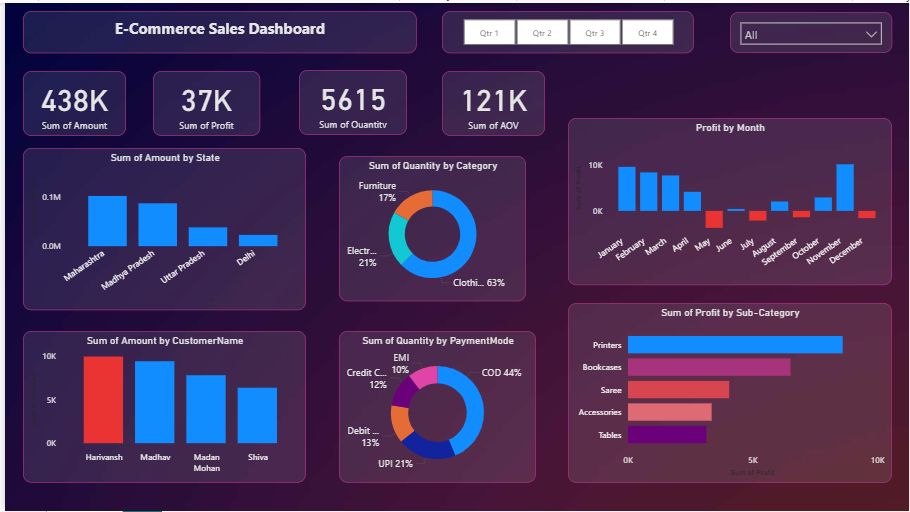

Layout of this report page (visuals, bound fields, positions):
{"tool":"powerbi","page":{"name":"Page 1","canvas":[1280,720],"ordinal":0},"visuals":[{"type":"textbox","box":[25.5,11.3,558.4,59.5],"z":0},{"type":"columnChart","title":"Profit by Month","fields":{"Y":["Details.Profit"],"Category":["Orders.Order Date.Variation.Date Hierarchy.Month"]},"box":[798,97.8,459.2,262.2],"z":1000},{"type":"barChart","fields":{"Category":["Details.Sub-Category"],"Y":["Details.Profit"]},"box":[798,396.9,459.2,283.5],"z":2000},{"type":"donutChart","fields":{"Category":["Details.Category"],"Y":["Details.Quantity"]},"box":[473.4,216.9,265,205.5],"z":3000},{"type":"donutChart","fields":{"Category":["Details.PaymentMode"],"Y":["Details.Quantity"]},"box":[473.4,464.9,279.2,215.4],"z":4000},{"type":"card","fields":{"Values":["Details.Amount"]},"box":[25.5,96.4,146,92.1],"z":5000},{"type":"card","fields":{"Values":["Details.Quantity"]},"box":[416.7,95,153.1,92.1],"z":6000},{"type":"card","fields":{"Values":["Details.Profit"]},"box":[209.8,96.4,151.7,92.1],"z":7000},{"type":"card","fields":{"Values":["Details.AOV"]},"box":[619.4,96.4,146,92.1],"z":8000},{"type":"columnChart","fields":{"Category":["Orders.State"],"Y":["Details.Amount"]},"box":[25.2,204.9,401.5,230.1],"z":9000},{"type":"columnChart","fields":{"Category":["Orders.CustomerName"],"Y":["Details.Amount"]},"box":[25.2,465.3,401.5,215],"z":10000},{"type":"slicer","fields":{"Values":["Orders.Order Date.Variation.Date Hierarchy.Quarter"]},"box":[619.4,11.3,357.2,59.5],"z":11000},{"type":"slicer","fields":{"Values":["Orders.State"]},"box":[1027.6,12.8,229.6,58.1],"z":12000}]}

Visuals, with their boxes in screenshot pixels (x1, y1, x2, y2), scaled from the page's 1280x720 canvas onto the 910x512 screenshot:
textbox: rect(18, 8, 415, 50)
"Profit by Month" columnChart: rect(567, 70, 894, 256)
barChart - Details.Sub-Category x Details.Profit: rect(567, 282, 894, 484)
donutChart - Details.Category x Details.Quantity: rect(337, 154, 525, 300)
donutChart - Details.PaymentMode x Details.Quantity: rect(337, 331, 535, 484)
card - Details.Amount: rect(18, 69, 122, 134)
card - Details.Quantity: rect(296, 68, 405, 133)
card - Details.Profit: rect(149, 69, 257, 134)
card - Details.AOV: rect(440, 69, 544, 134)
columnChart - Orders.State x Details.Amount: rect(18, 146, 303, 309)
columnChart - Orders.CustomerName x Details.Amount: rect(18, 331, 303, 484)
slicer - Orders.Order Date.Variation.Date Hierarchy.Quarter: rect(440, 8, 694, 50)
slicer - Orders.State: rect(731, 9, 894, 50)
